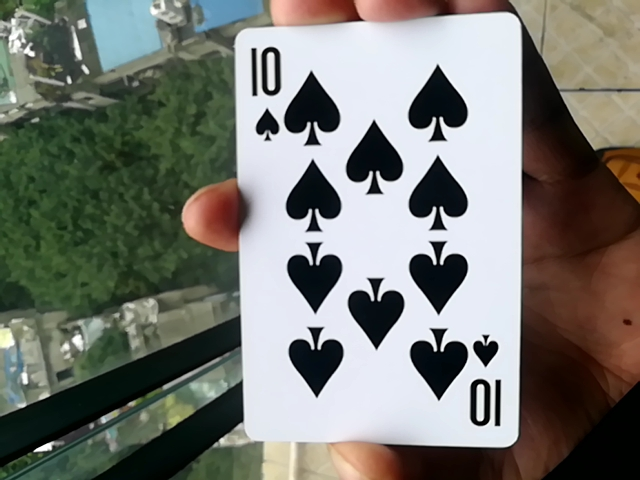ht 10: (231, 2, 512, 455)
